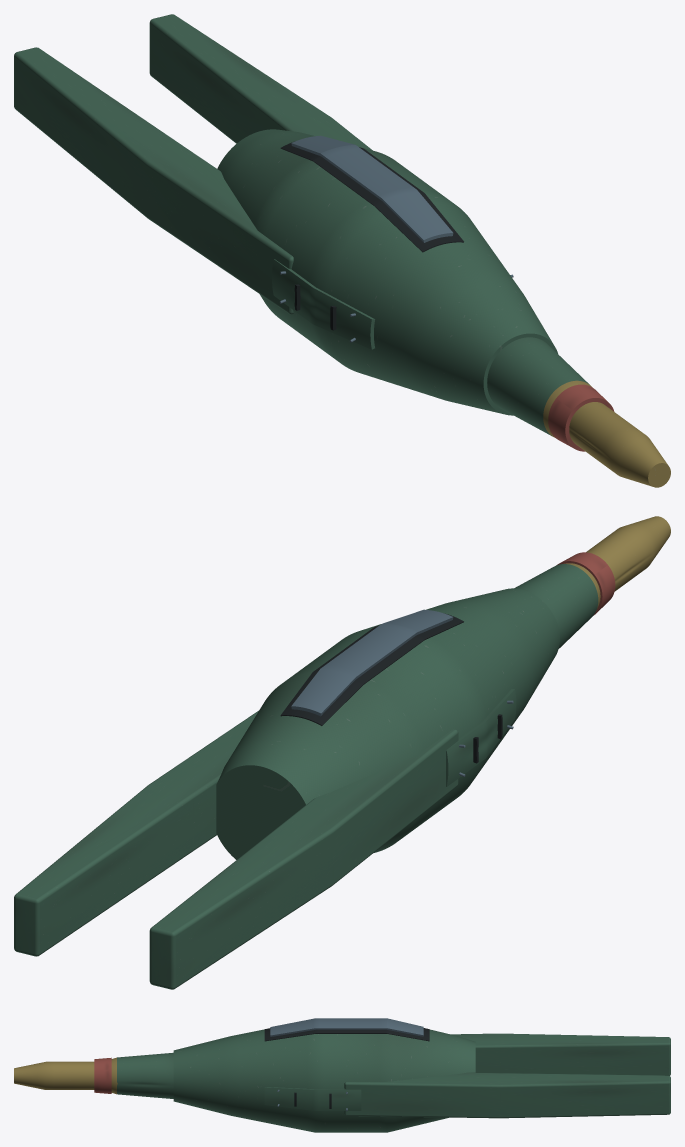
The picture shows the model from 3 angles, top to bottom: view 1: azimuth 30°, elevation 25°; view 2: azimuth 150°, elevation 25°; view 3: azimuth 270°, elevation 25°; orthographic projection. The views are drawn at different scales.
Parts seen in each view (by area): view 1: Rigellian Detonator green core, Rigellian Detonator rear prong 0, Rigellian Detonator rear prong 1, Rigellian Detonator gold forward fitting, Rigellian Detonator forward neck, Rigellian Detonator blue grey centre, Rigellian Detonator service cover 1, Rigellian Detonator centre recess surround, Rigellian Detonator red forward band; view 2: Rigellian Detonator green core, Rigellian Detonator rear prong 0, Rigellian Detonator rear prong 1, Rigellian Detonator blue grey centre, Rigellian Detonator forward neck, Rigellian Detonator gold forward fitting, Rigellian Detonator service cover 1, Rigellian Detonator centre recess surround, Rigellian Detonator red forward band; view 3: Rigellian Detonator green core, Rigellian Detonator rear prong 1, Rigellian Detonator rear prong 0, Rigellian Detonator forward neck, Rigellian Detonator gold forward fitting, Rigellian Detonator service cover 0, Rigellian Detonator blue grey centre, Rigellian Detonator centre recess surround, Rigellian Detonator red forward band.
Part boxes in pixels (left/top/right/bottom): Rigellian Detonator green core: left=217, top=129, right=557, bottom=415; Rigellian Detonator rear prong 0: left=14, top=47, right=293, bottom=314; Rigellian Detonator rear prong 1: left=149, top=14, right=372, bottom=150; Rigellian Detonator gold forward fitting: left=543, top=380, right=670, bottom=487; Rigellian Detonator forward neck: left=487, top=337, right=589, bottom=435; Rigellian Detonator blue grey centre: left=291, top=135, right=453, bottom=242; Rigellian Detonator service cover 1: left=272, top=259, right=375, bottom=349; Rigellian Detonator centre recess surround: left=280, top=141, right=463, bottom=252; Rigellian Detonator red forward band: left=548, top=384, right=614, bottom=451; Rigellian Detonator green core: left=216, top=588, right=559, bottom=859; Rigellian Detonator rear prong 0: left=149, top=729, right=458, bottom=989; Rigellian Detonator rear prong 1: left=14, top=710, right=258, bottom=956; Rigellian Detonator blue grey centre: left=291, top=609, right=453, bottom=716; Rigellian Detonator forward neck: left=514, top=564, right=598, bottom=648; Rigellian Detonator gold forward fitting: left=564, top=516, right=670, bottom=608; Rigellian Detonator service cover 1: left=446, top=689, right=516, bottom=786; Rigellian Detonator centre recess surround: left=280, top=613, right=463, bottom=725; Rigellian Detonator red forward band: left=556, top=552, right=615, bottom=615; Rigellian Detonator green core: left=173, top=1029, right=475, bottom=1132; Rigellian Detonator rear prong 1: left=344, top=1072, right=670, bottom=1118; Rigellian Detonator rear prong 0: left=451, top=1033, right=670, bottom=1075; Rigellian Detonator forward neck: left=117, top=1052, right=173, bottom=1098; Rigellian Detonator gold forward fitting: left=14, top=1057, right=117, bottom=1094; Rigellian Detonator service cover 0: left=264, top=1087, right=361, bottom=1110; Rigellian Detonator blue grey centre: left=270, top=1018, right=423, bottom=1036; Rigellian Detonator centre recess surround: left=264, top=1028, right=429, bottom=1041; Rigellian Detonator red forward band: left=94, top=1057, right=111, bottom=1093.
Size of the model in its own units: 0.44 by 0.409 by 2.31.
Materials: 5 (3 with a texture image).
